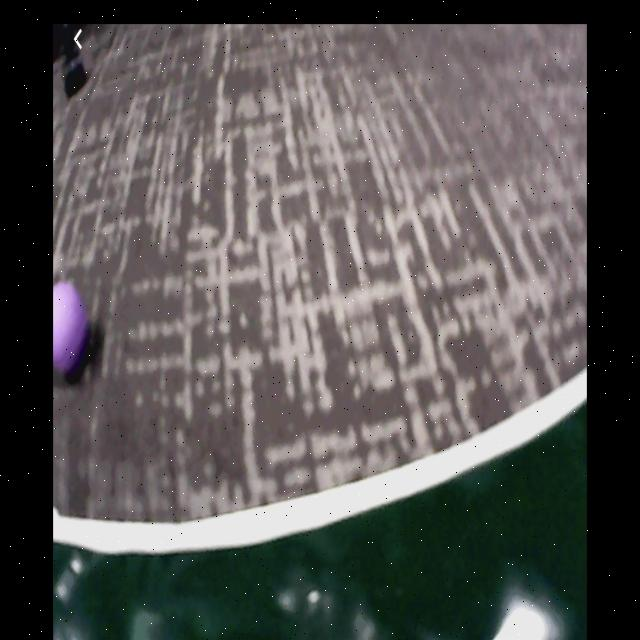ball: (53, 280, 92, 383)
